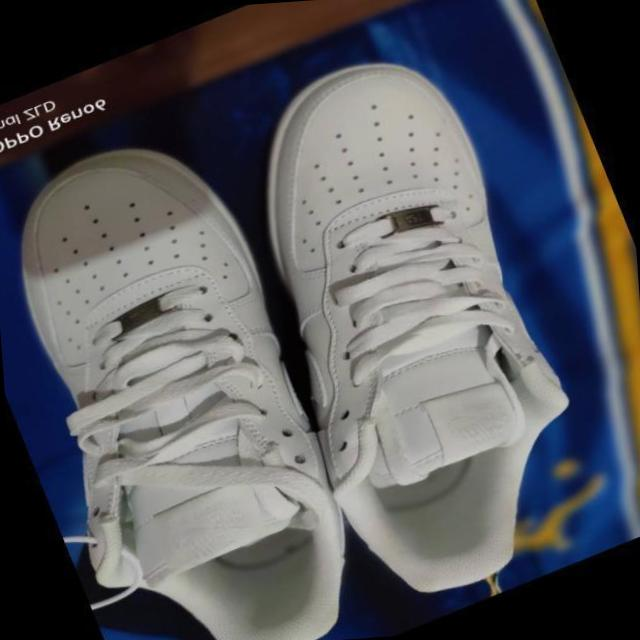nike_fake_airforce: (175, 14, 638, 631), (0, 103, 403, 640)
